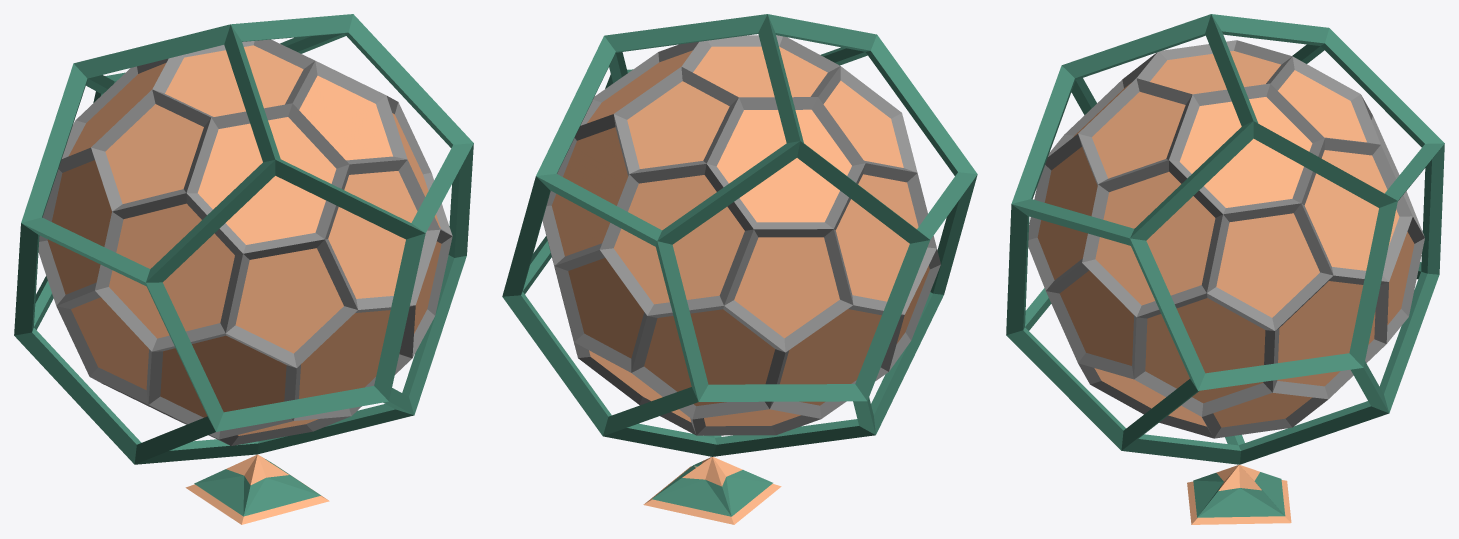
Rendered from Obra4_stoer.glb.
3 views of the same model, side by side, from view 1: azimuth 30°, elevation 25°; view 2: azimuth 150°, elevation 25°; view 3: azimuth 270°, elevation 25° (orthographic). The views are drawn at different scales.
Parts seen in each view (by area): view 1: Solid.003, Solid.001, Solid.002, Cube, Cube.002; view 2: Solid.003, Solid.001, Solid.002, Cube, Cube.002; view 3: Solid.003, Solid.001, Solid.002, Cube, Cube.002.
Boxes of the visible parts, bbox=[...] form: Solid.003: bbox=[47, 45, 441, 435]; Solid.001: bbox=[14, 14, 473, 464]; Solid.002: bbox=[38, 39, 452, 445]; Cube: bbox=[194, 459, 320, 516]; Cube.002: bbox=[185, 454, 329, 524]; Solid.003: bbox=[551, 46, 929, 426]; Solid.001: bbox=[502, 14, 977, 456]; Solid.002: bbox=[542, 35, 940, 435]; Cube: bbox=[651, 461, 772, 516]; Cube.002: bbox=[643, 457, 781, 524]; Solid.003: bbox=[1037, 51, 1414, 427]; Solid.001: bbox=[1006, 14, 1444, 464]; Solid.002: bbox=[1028, 40, 1424, 438]; Cube: bbox=[1193, 472, 1285, 517]; Cube.002: bbox=[1187, 464, 1291, 524].
Size of the model in its own units: 2.15 by 2.42 by 2.05.
